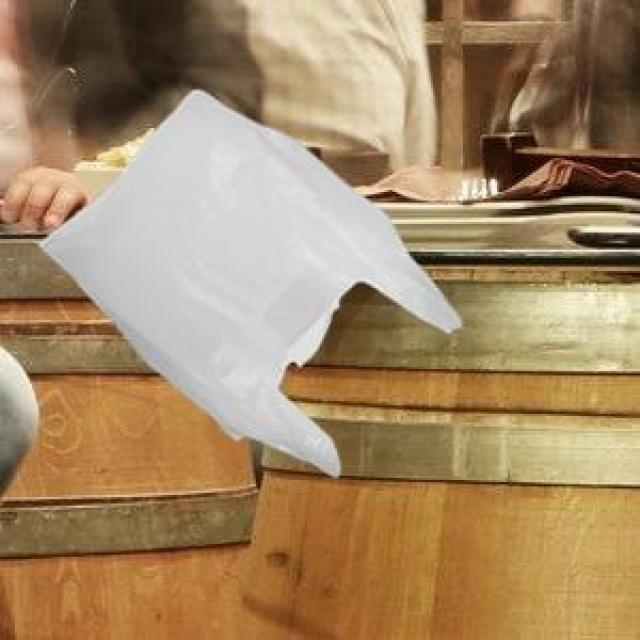waste: (48, 96, 450, 474)
